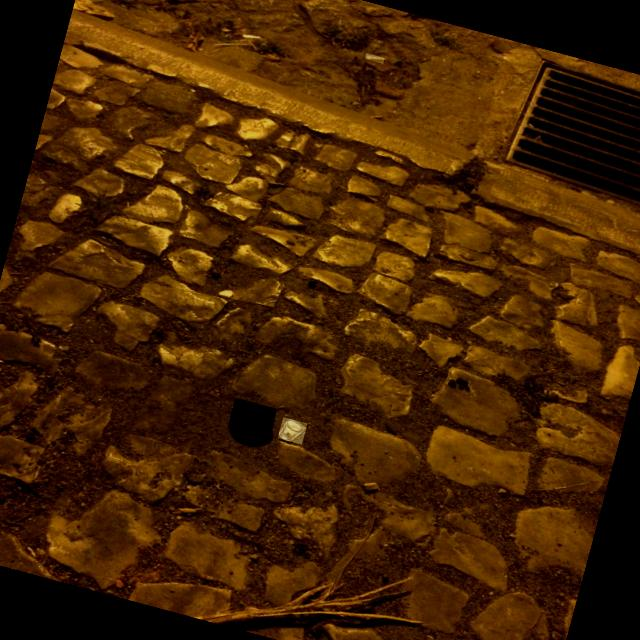Bottle cap: (230, 403, 273, 435)
Cigarette: (366, 56, 384, 61)
Pop tab: (278, 419, 305, 442)
